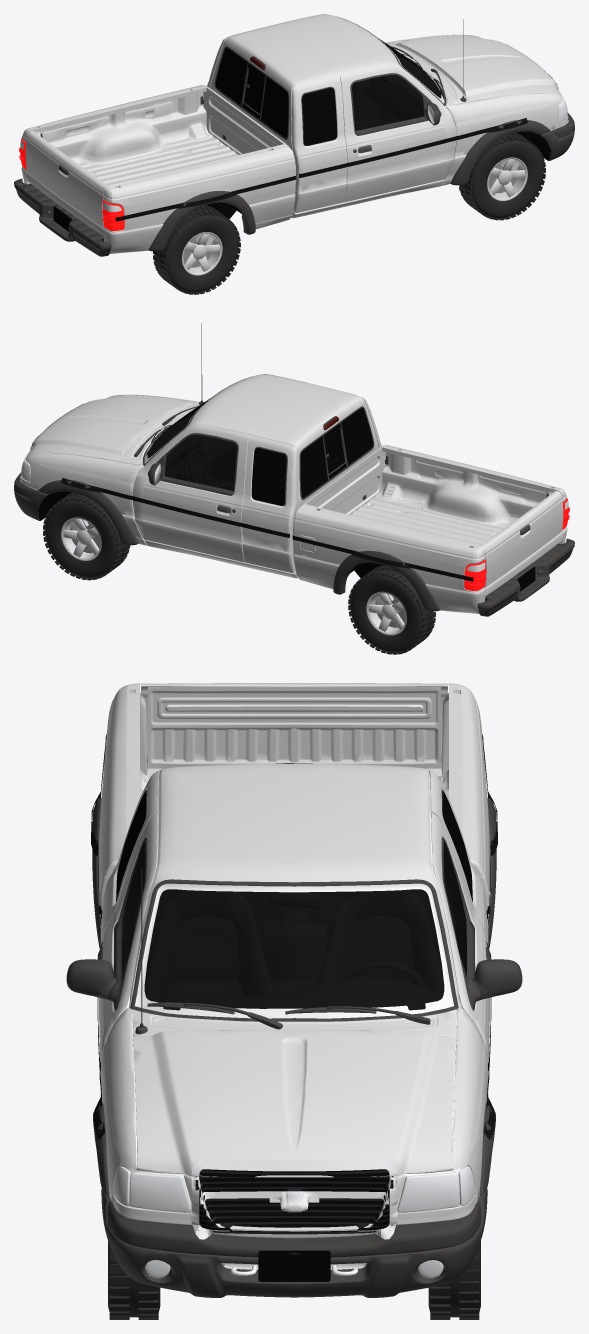
File: forde_rangler.glb
3 renders of one model, top to bottom at view 1: azimuth 30°, elevation 25°; view 2: azimuth 150°, elevation 25°; view 3: azimuth 270°, elevation 25°, orthographic. The views are drawn at different scales.
Parts seen in each view (by area): view 1: part_bed, liner_trim, part_roof, part_door_fr, part_glass, part_quarter_rr, part_hood, wheel_rr, wheel_fr, part_fender_fr, part_rear_bumper, part_quarter_rl (+3 smaller); view 2: part_bed, liner_trim, part_roof, part_door_fl, part_glass, part_quarter_rl, part_hood, wheel_rl, wheel_fl, part_fender_fl, part_rear_bumper, part_quarter_rr (+3 smaller); view 3: liner_trim, part_hood, part_glass, part_roof, part_bed, core, part_fender_fl, part_fender_fr, part_front_bumper, part_quarter_rl, part_quarter_rr, part_rear_bumper (+6 smaller).
Part boxes in pixels (x1,y1,x2,y2): part_bed: (22, 85, 297, 222); liner_trim: (14, 14, 574, 256); part_roof: (215, 14, 422, 118); part_door_fr: (316, 85, 445, 213); part_glass: (215, 39, 442, 145); part_quarter_rr: (110, 115, 305, 229); part_hood: (387, 35, 561, 104); wheel_rr: (153, 205, 240, 294); wheel_fr: (459, 132, 545, 220); part_fender_fr: (435, 64, 562, 185); part_rear_bumper: (21, 153, 168, 253); part_quarter_rl: (26, 60, 220, 143); part_bed: (291, 445, 566, 582); liner_trim: (14, 323, 574, 616); part_roof: (166, 374, 373, 478); part_door_fl: (143, 445, 272, 573); part_glass: (146, 398, 373, 505); part_quarter_rl: (283, 475, 478, 589); part_hood: (27, 395, 200, 464); wheel_rl: (348, 565, 435, 654); wheel_fl: (43, 492, 130, 580); part_fender_fl: (26, 424, 153, 545); part_rear_bumper: (420, 512, 567, 613); part_quarter_rr: (368, 420, 562, 503); liner_trim: (66, 689, 522, 1297); part_hood: (133, 941, 455, 1177); part_glass: (116, 791, 472, 1010); part_roof: (130, 763, 458, 942); part_bed: (126, 683, 462, 832); core: (195, 1169, 393, 1234); part_fender_fl: (415, 986, 488, 1171); part_fender_fr: (100, 986, 173, 1171); part_front_bumper: (107, 1139, 481, 1237); part_quarter_rl: (456, 685, 490, 941); part_quarter_rr: (99, 685, 132, 941); part_rear_bumper: (140, 748, 448, 790).
Size of the model in its own units: 5.15 by 2.03 by 2.07.
24 materials, 1 textured.
